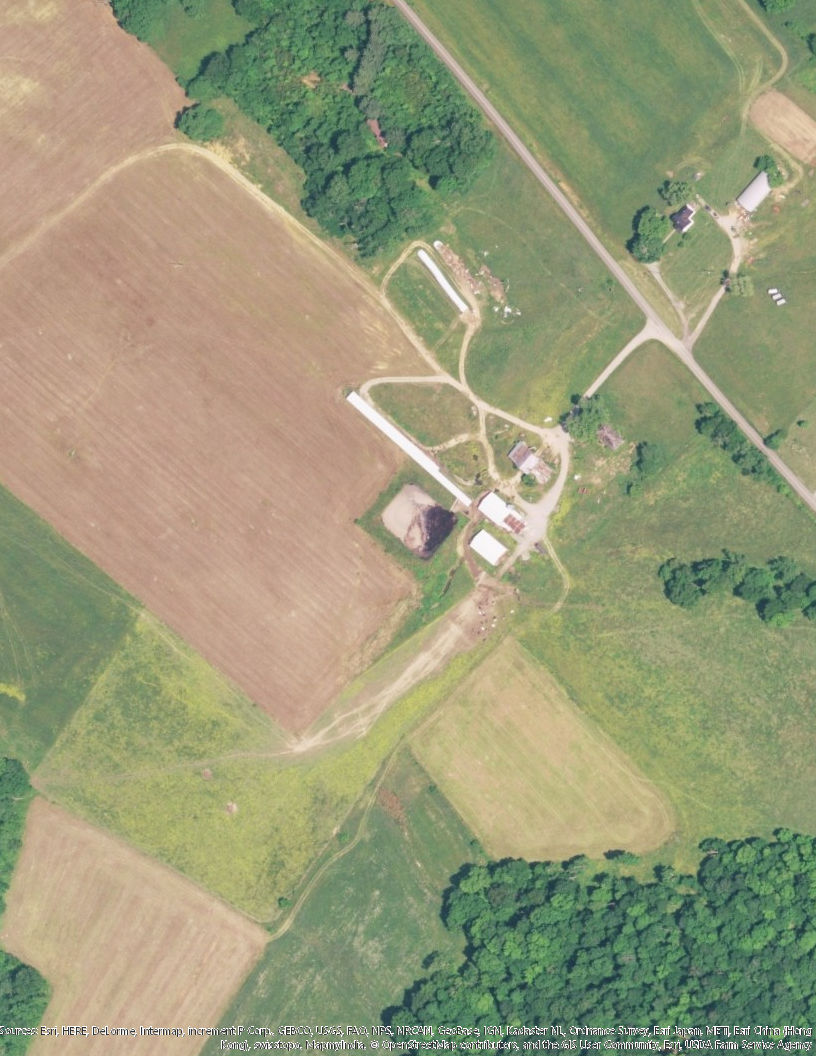cafo: (478, 489, 532, 537), (738, 165, 777, 214), (468, 527, 512, 568)
